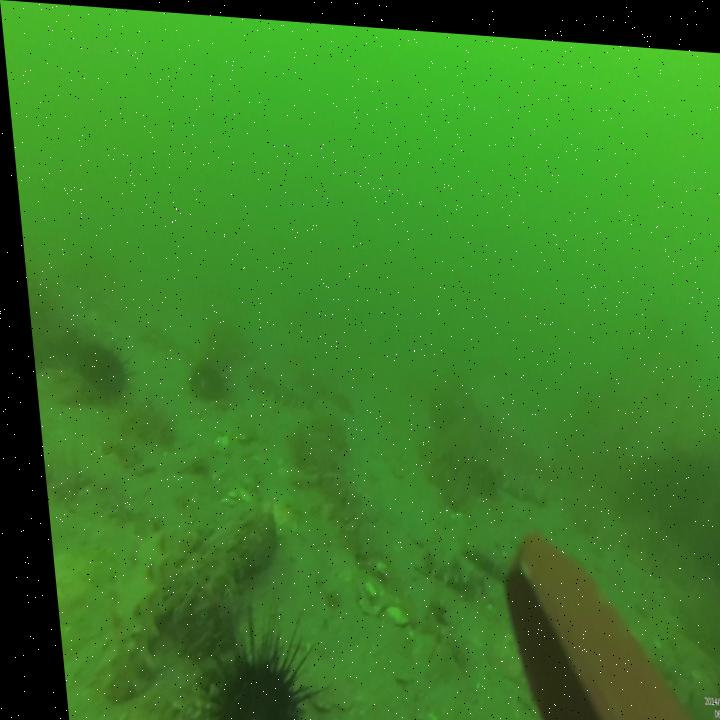echinus: (169, 618, 310, 720), (63, 333, 122, 404), (174, 353, 220, 400)
holothurian: (81, 512, 163, 699), (403, 537, 467, 582), (235, 371, 305, 405), (484, 460, 540, 502)
